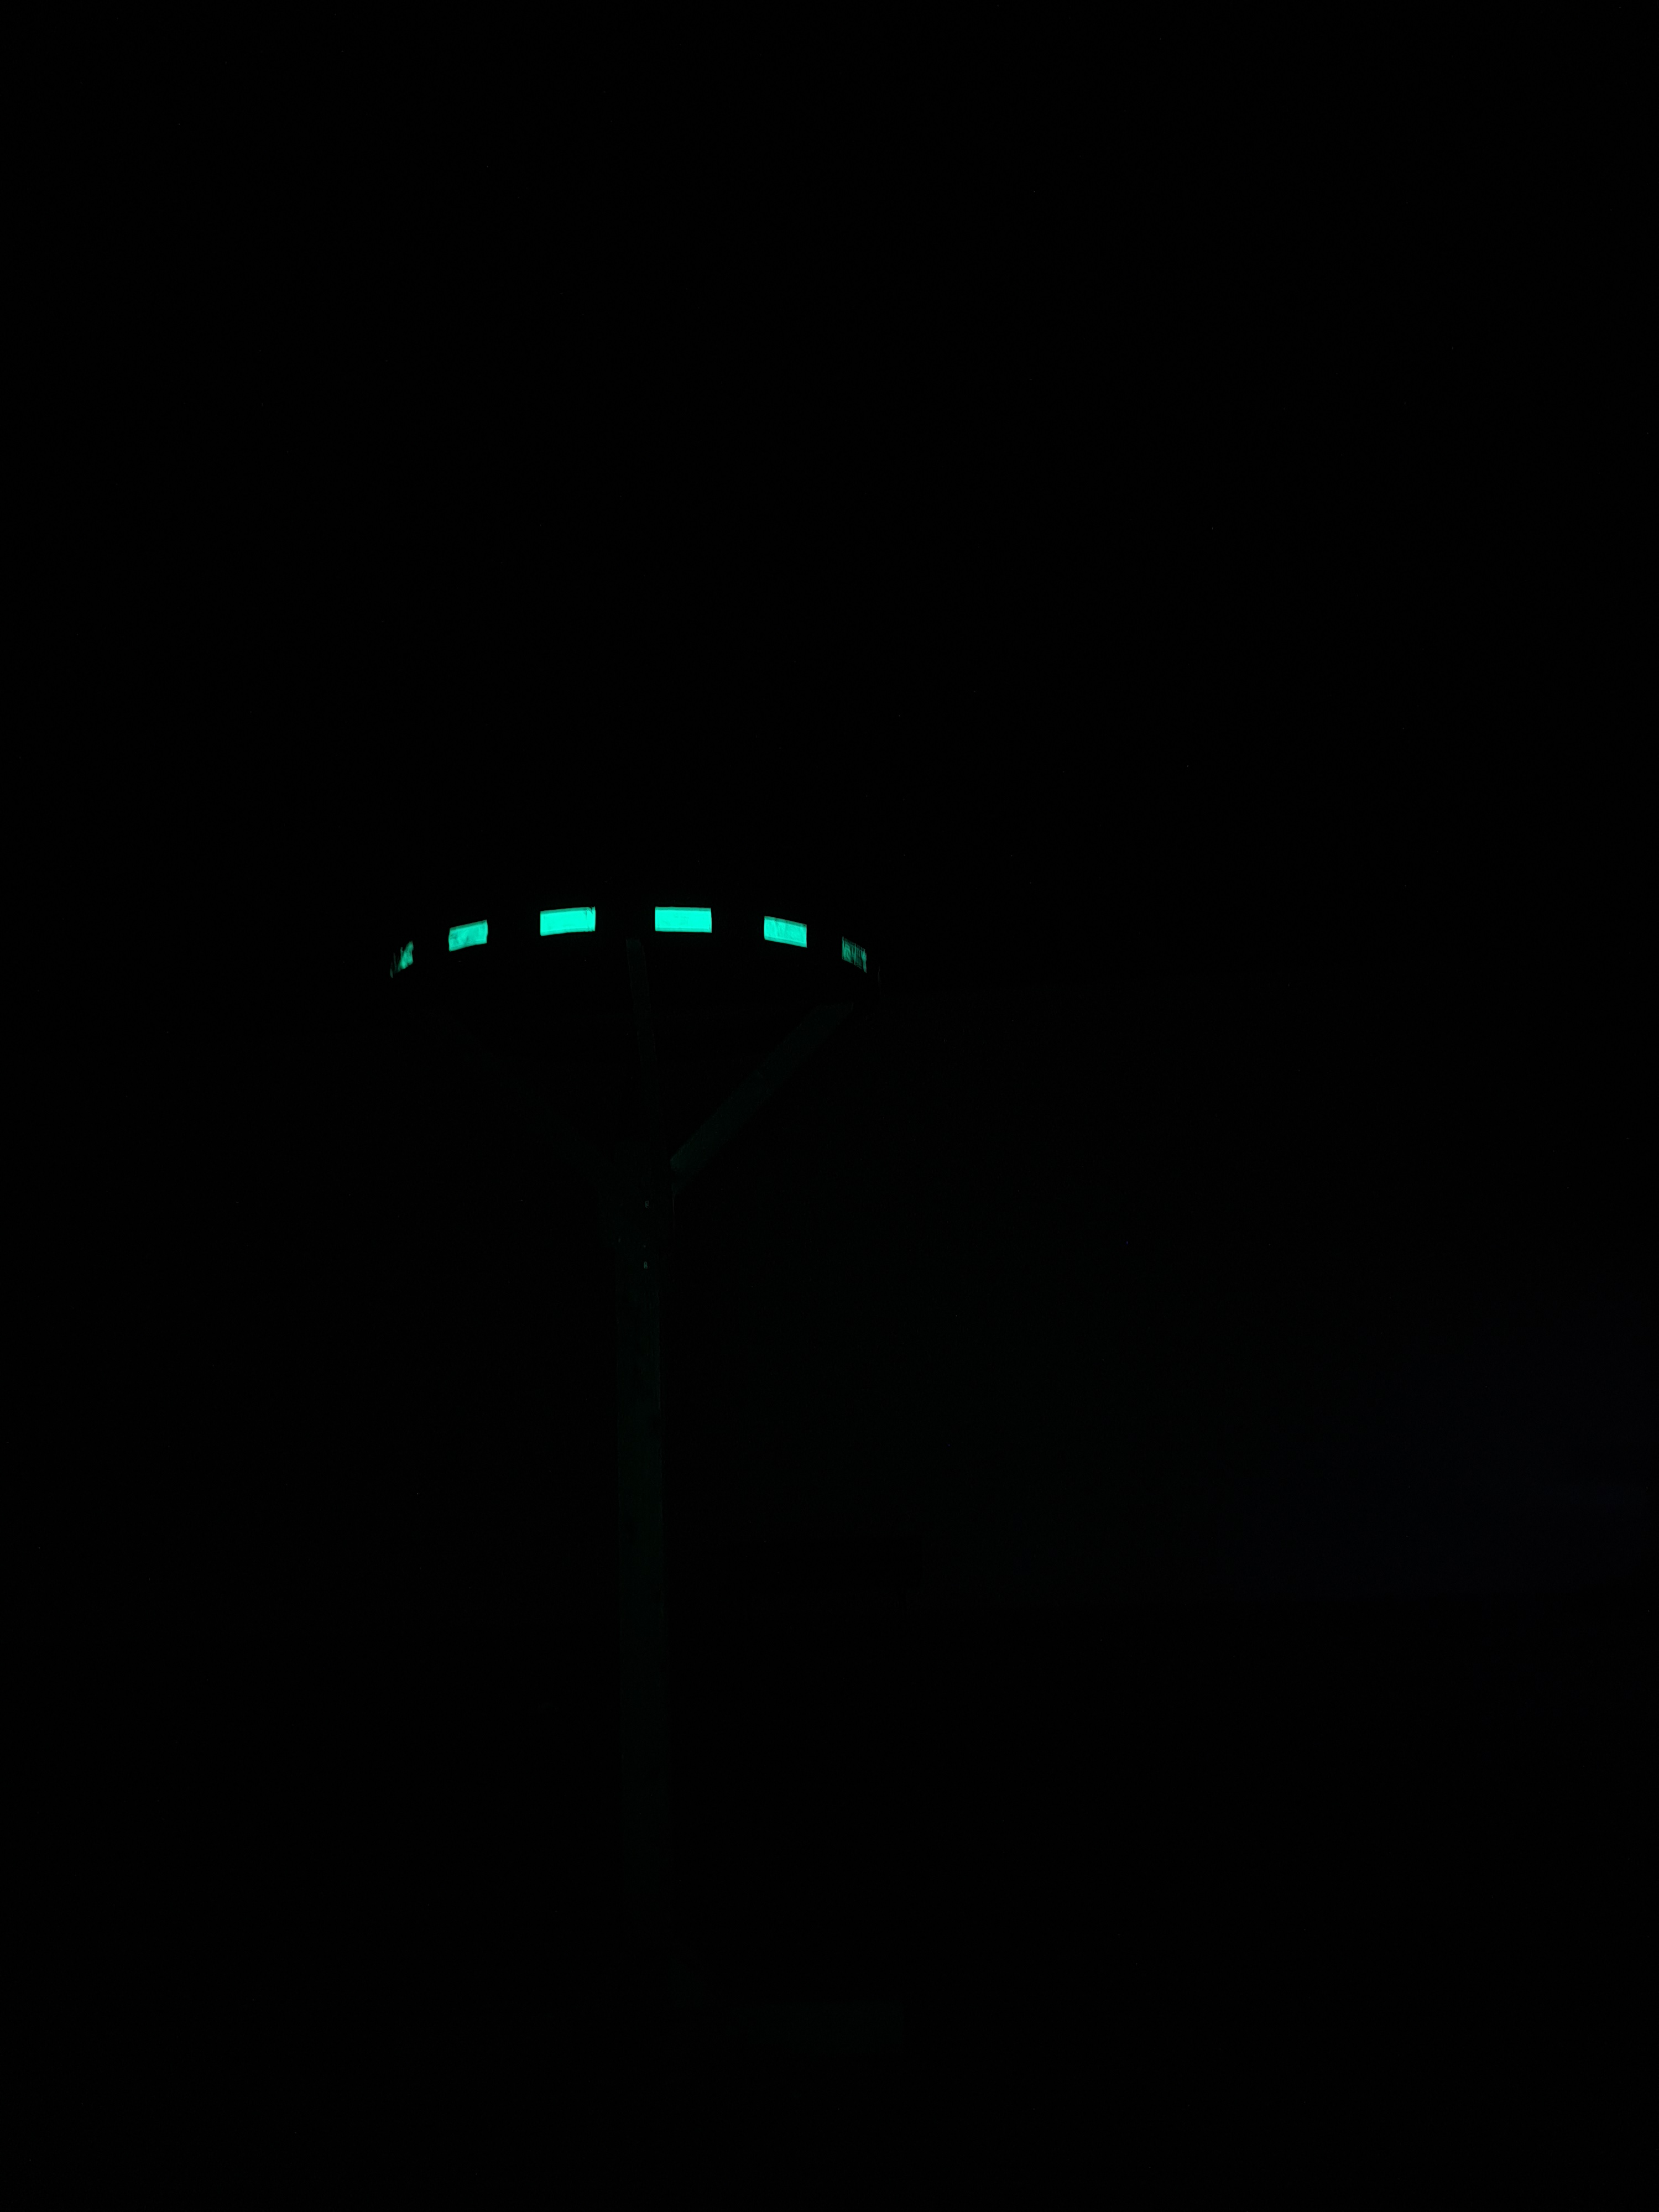hoop: (380, 897, 871, 989)
